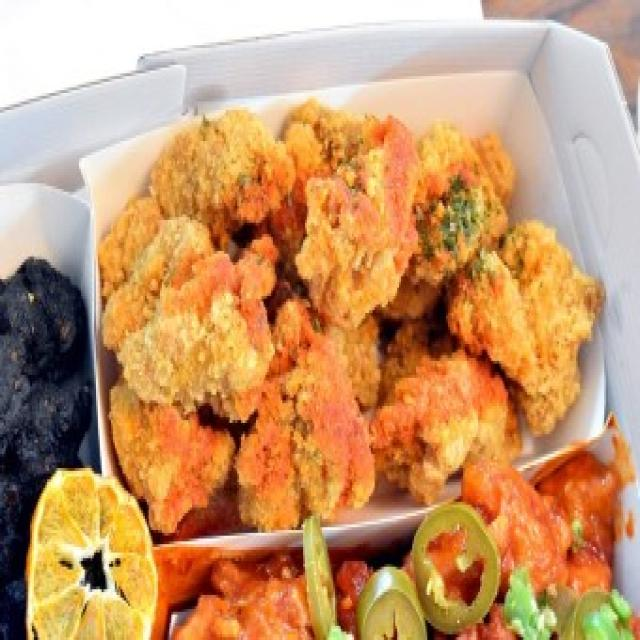Frango: (101, 138, 594, 492)
